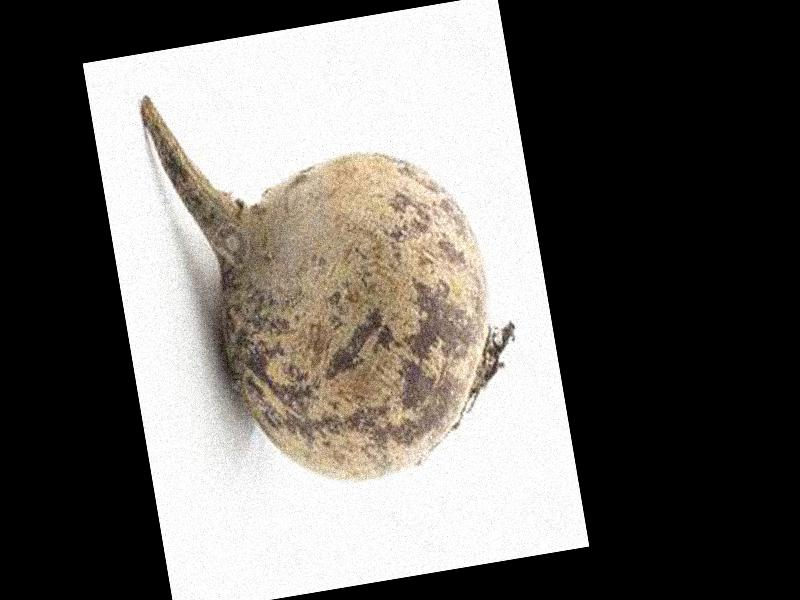Beet: (140, 45, 535, 507)
